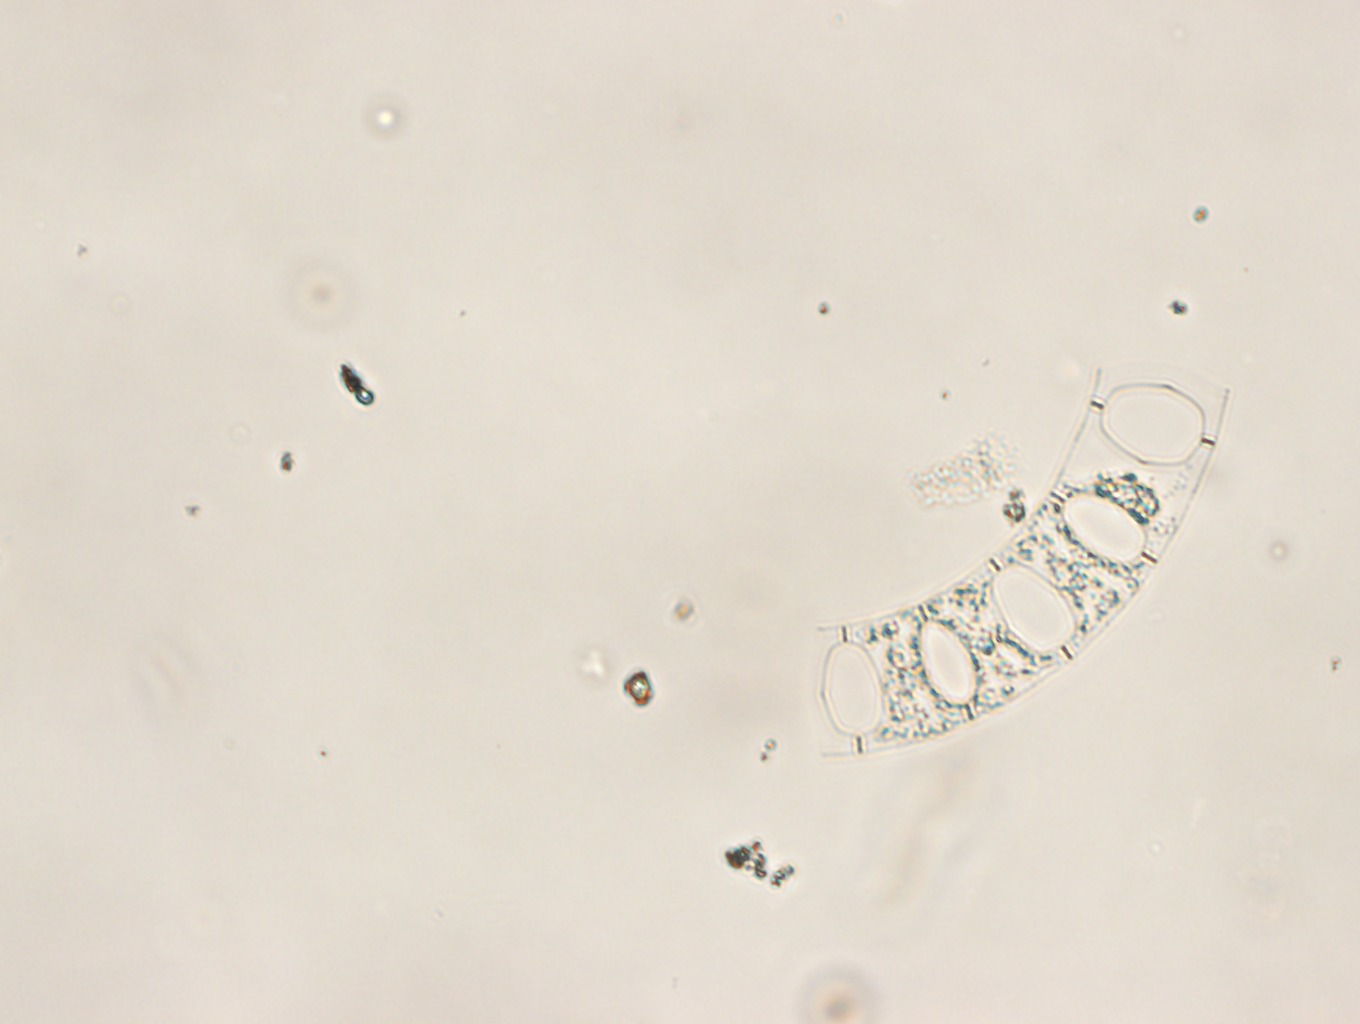eucampia: (820, 375, 1232, 762)
